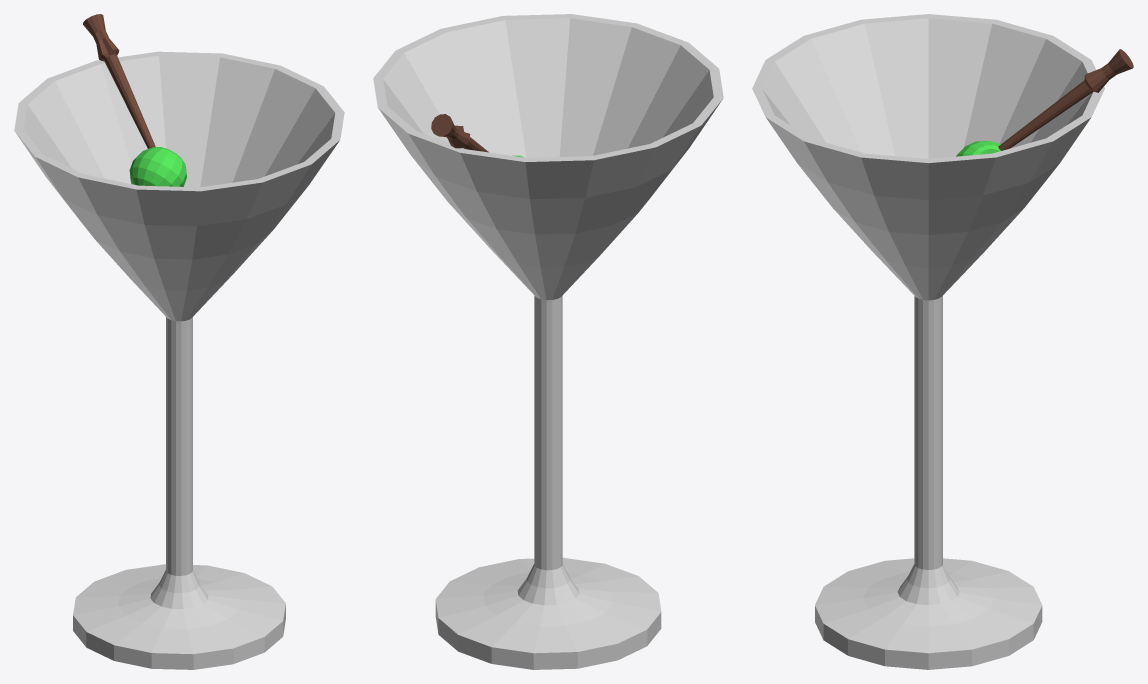
Rendered from martini.fbx.
3 renders of one model, left to right at view 1: azimuth 30°, elevation 25°; view 2: azimuth 150°, elevation 25°; view 3: azimuth 270°, elevation 25°, orthographic. The views are drawn at different scales.
Visible parts, largest first — view 1: Glass; view 2: Glass; view 3: Glass.
Boxes of the visible parts, left/top/right/bottom form: Glass: left=14, top=14, right=344, bottom=669; Glass: left=373, top=14, right=723, bottom=669; Glass: left=752, top=14, right=1133, bottom=669.
Bounding box in the file's own units: 162 × 292 × 175.
